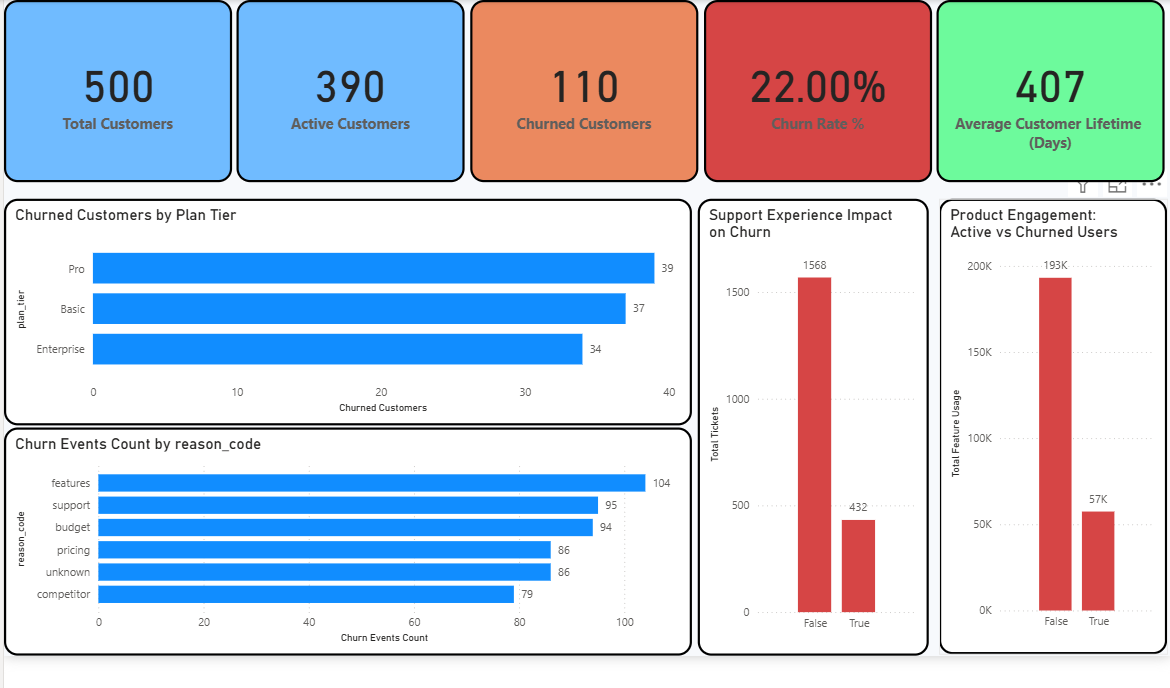

The page's visual inventory and layout, read from the dashboard file:
{"tool":"powerbi","page":{"name":"Churn Drivers","canvas":[1280,720],"ordinal":0},"visuals":[{"type":"clusteredBarChart","title":"Churned Customers by Plan Tier","fields":{"Category":["ravenstack_accounts.plan_tier"],"Y":["ravenstack_accounts.Churned Customers"]},"box":[0,218.9,755,248.6],"z":0},{"type":"clusteredColumnChart","title":"Product Engagement: Active vs Churned Users","fields":{"Category":["ravenstack_accounts.churn_flag"],"Y":["ravenstack_accounts.Total Feature Usage"]},"box":[1027.1,218.9,250,500],"z":1000},{"type":"clusteredColumnChart","title":"Support Experience Impact on Churn","fields":{"Y":["ravenstack_support_tickets.Total Tickets"],"Category":["ravenstack_accounts.churn_flag"]},"box":[761.3,218.9,253.2,501.8],"z":2000},{"type":"clusteredBarChart","fields":{"Category":["ravenstack_churn_events.reason_code"],"Y":["ravenstack_churn_events.Churn Events Count"]},"box":[0,469.9,755,250],"z":3000},{"type":"card","fields":{"Values":["ravenstack_accounts.Total Customers"]},"box":[0,0,250,200],"z":4000},{"type":"card","fields":{"Values":["ravenstack_accounts.Active Customers"]},"box":[255.7,0,250,200],"z":5000},{"type":"card","fields":{"Values":["ravenstack_accounts.Churned Customers"]},"box":[511.8,0,250,200],"z":6000},{"type":"card","fields":{"Values":["ravenstack_accounts.Churn Rate %"]},"box":[767.9,0,250,200],"z":7000},{"type":"card","fields":{"Values":["ravenstack_accounts.Average Customer Lifetime (Days)"]},"box":[1023.6,0,250,200],"z":8000}]}

Visuals, with their boxes in screenshot pixels (x1, y1, x2, y2):
"Churned Customers by Plan Tier" clusteredBarChart: 9,197,690,421
"Product Engagement: Active vs Churned Users" clusteredColumnChart: 935,197,1160,648
"Support Experience Impact on Churn" clusteredColumnChart: 695,197,924,650
clusteredBarChart - ravenstack_churn_events.reason_code x ravenstack_churn_events.Churn Events Count: 9,424,690,649
card - ravenstack_accounts.Total Customers: 9,0,234,180
card - ravenstack_accounts.Active Customers: 240,0,465,180
card - ravenstack_accounts.Churned Customers: 470,0,696,180
card - ravenstack_accounts.Churn Rate %: 701,0,927,180
card - ravenstack_accounts.Average Customer Lifetime (Days): 932,0,1157,180
